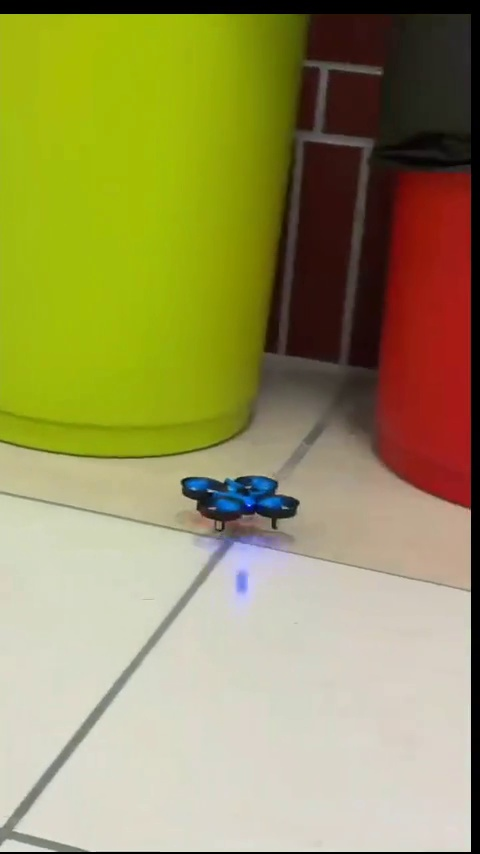drone: (181, 476, 298, 534)
